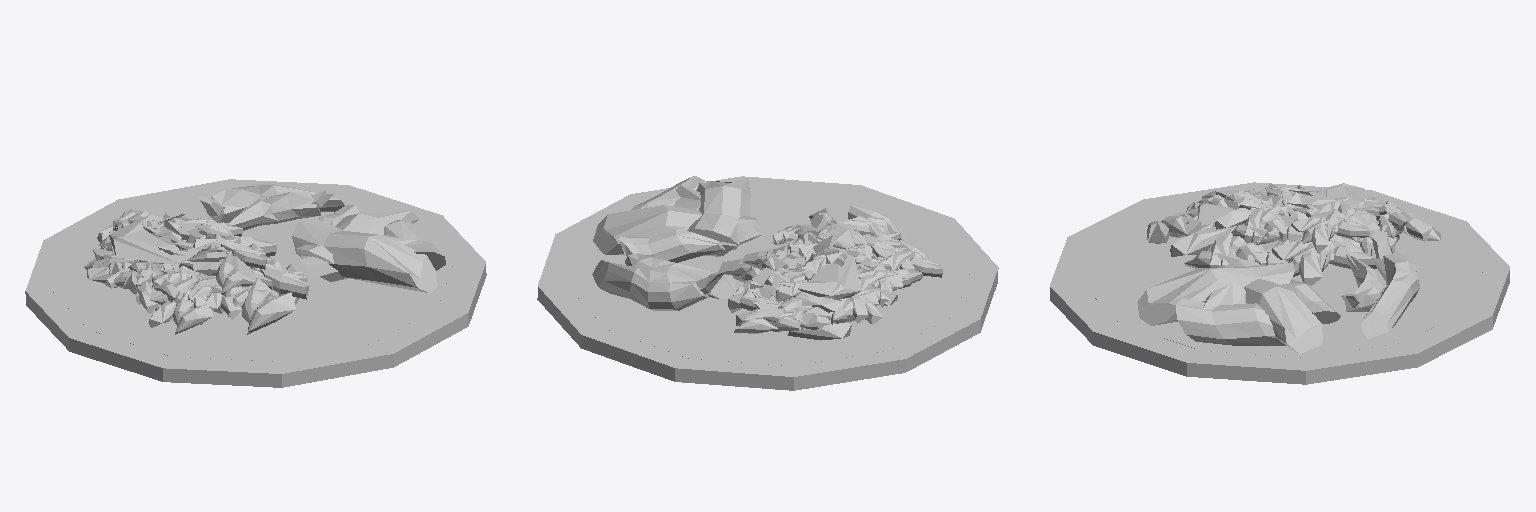
The model's file is qabuli.obj.
The picture shows the model from 3 angles: view 1: azimuth 30°, elevation 25°; view 2: azimuth 150°, elevation 25°; view 3: azimuth 270°, elevation 25°; orthographic projection.
Visible parts, largest first — view 1: group[number redacted], group[number redacted], group[number redacted], group[number redacted], group[number redacted], group[number redacted], group[number redacted], group[number redacted], group[number redacted], group[number redacted], group[number redacted], group[number redacted]; view 2: group[number redacted], group[number redacted], group[number redacted], group[number redacted], group[number redacted], group[number redacted], group[number redacted], group[number redacted], group[number redacted], group[number redacted], group[number redacted]; view 3: group[number redacted], group[number redacted], group[number redacted], group[number redacted], group[number redacted], group[number redacted], group[number redacted], group[number redacted], group[number redacted], group[number redacted], group[number redacted].
Boxes of the visible parts, <box> form: group[number redacted]: <box>50,193,452,361</box>; group[number redacted]: <box>25,179,486,387</box>; group[number redacted]: <box>98,213,266,294</box>; group[number redacted]: <box>292,218,437,292</box>; group[number redacted]: <box>84,236,309,334</box>; group[number redacted]: <box>229,192,320,230</box>; group[number redacted]: <box>206,183,344,222</box>; group[number redacted]: <box>297,211,418,263</box>; group[number redacted]: <box>384,220,445,270</box>; group[number redacted]: <box>300,235,422,281</box>; group[number redacted]: <box>175,303,212,334</box>; group[number redacted]: <box>122,258,272,316</box>; group[number redacted]: <box>568,191,970,365</box>; group[number redacted]: <box>537,176,998,390</box>; group[number redacted]: <box>742,214,883,312</box>; group[number redacted]: <box>592,260,708,310</box>; group[number redacted]: <box>593,205,756,256</box>; group[number redacted]: <box>687,177,750,249</box>; group[number redacted]: <box>718,206,906,340</box>; group[number redacted]: <box>622,228,724,262</box>; group[number redacted]: <box>625,253,735,298</box>; group[number redacted]: <box>623,176,705,255</box>; group[number redacted]: <box>674,185,760,244</box>; group[number redacted]: <box>1050,182,1509,384</box>; group[number redacted]: <box>1081,204,1483,357</box>; group[number redacted]: <box>1197,183,1386,253</box>; group[number redacted]: <box>1147,216,1398,285</box>; group[number redacted]: <box>1137,262,1294,325</box>; group[number redacted]: <box>1176,298,1285,345</box>; group[number redacted]: <box>1224,259,1322,353</box>; group[number redacted]: <box>1362,252,1419,338</box>; group[number redacted]: <box>1345,254,1384,311</box>; group[number redacted]: <box>1282,279,1340,323</box>; group[number redacted]: <box>1203,285,1246,309</box>.
Size of the model in its own units: 0.32 by 0.0583 by 0.3199.